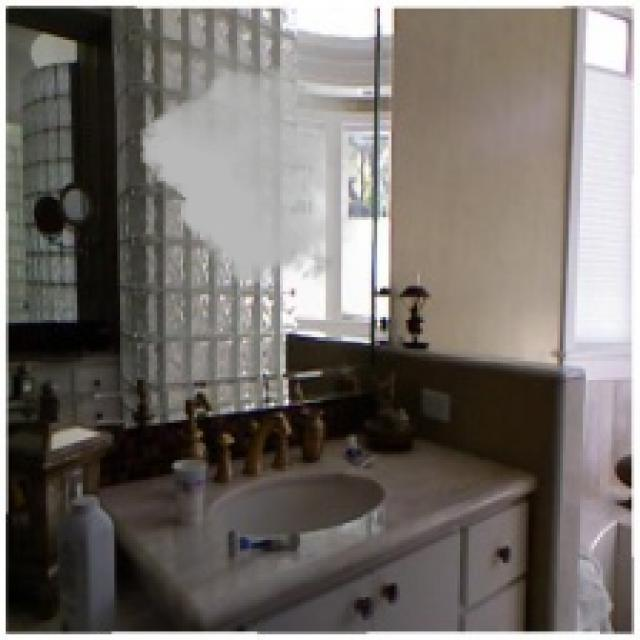Smoke: (140, 37, 357, 289)
